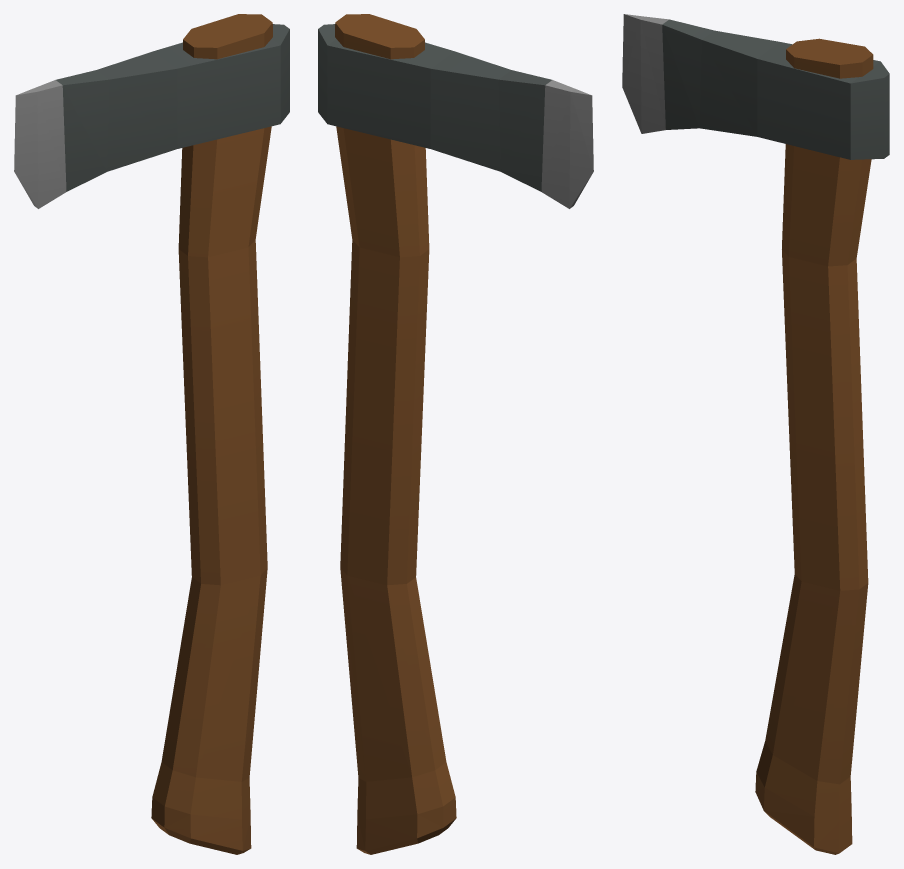
The model's file is Tool_Axe_02.obj.
3 views of the same model, side by side, from view 1: azimuth 30°, elevation 25°; view 2: azimuth 150°, elevation 25°; view 3: azimuth 330°, elevation 25° (orthographic). The views are drawn at different scales.
Parts seen in each view (by area): view 1: Tool_Axe_02; view 2: Tool_Axe_02; view 3: Tool_Axe_02.
Boxes of the visible parts, left/top/right/bottom form: Tool_Axe_02: left=14, top=14, right=289, bottom=854; Tool_Axe_02: left=318, top=14, right=593, bottom=854; Tool_Axe_02: left=622, top=14, right=889, bottom=854.
Bounding box in the file's own units: 0.3559 × 1.03 × 0.0705.
Materials: 1 (1 with a texture image).
